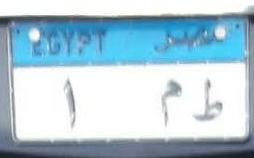1: (60, 78, 81, 130)
Taa: (189, 76, 226, 131)
meem: (157, 76, 183, 129)
